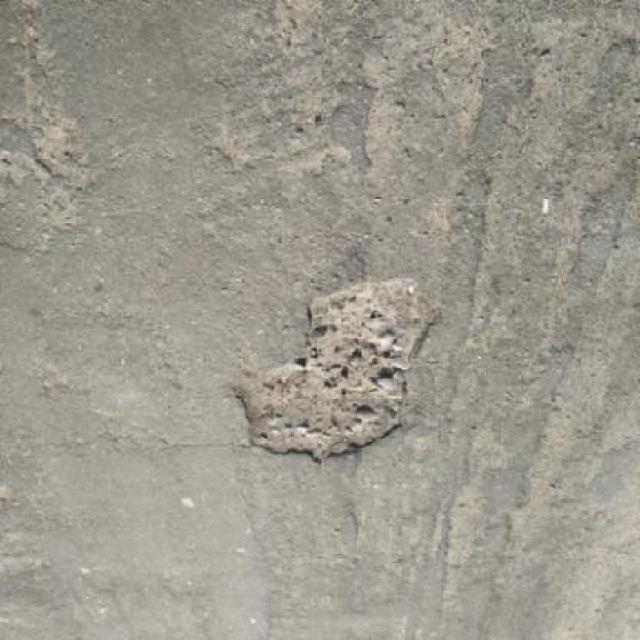pothole: (230, 271, 438, 467)
